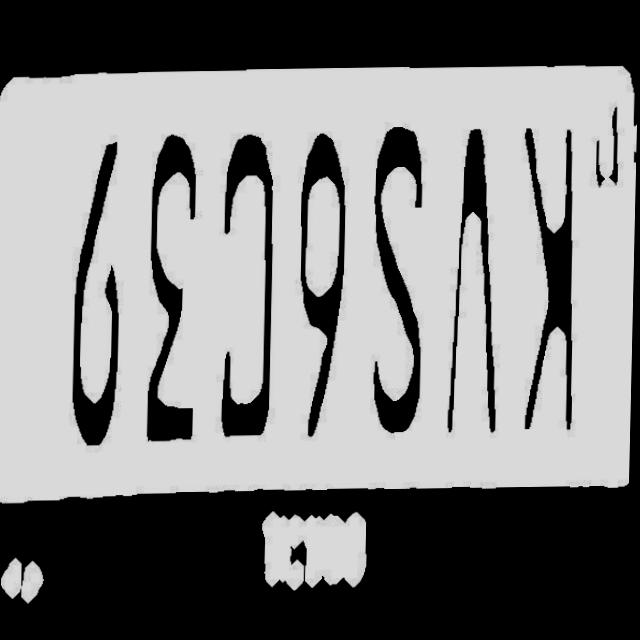3: (130, 130, 206, 459)
6: (290, 132, 354, 450)
9: (58, 119, 131, 458)
c: (207, 137, 293, 458)
k: (511, 130, 595, 447)
s: (369, 136, 450, 459)
v: (442, 141, 515, 449)
